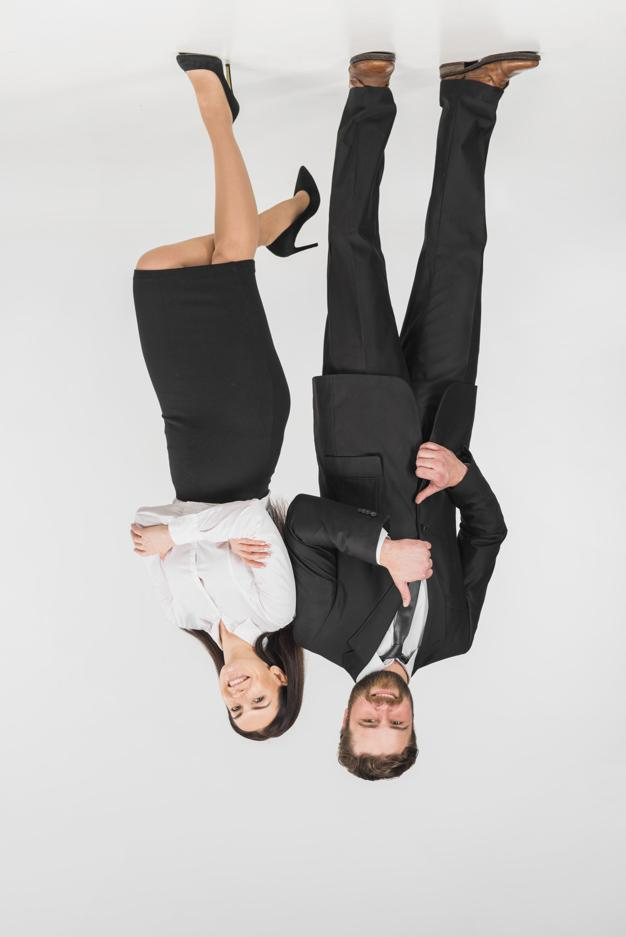thumbsdown: (398, 539, 434, 608), (414, 441, 449, 504)
